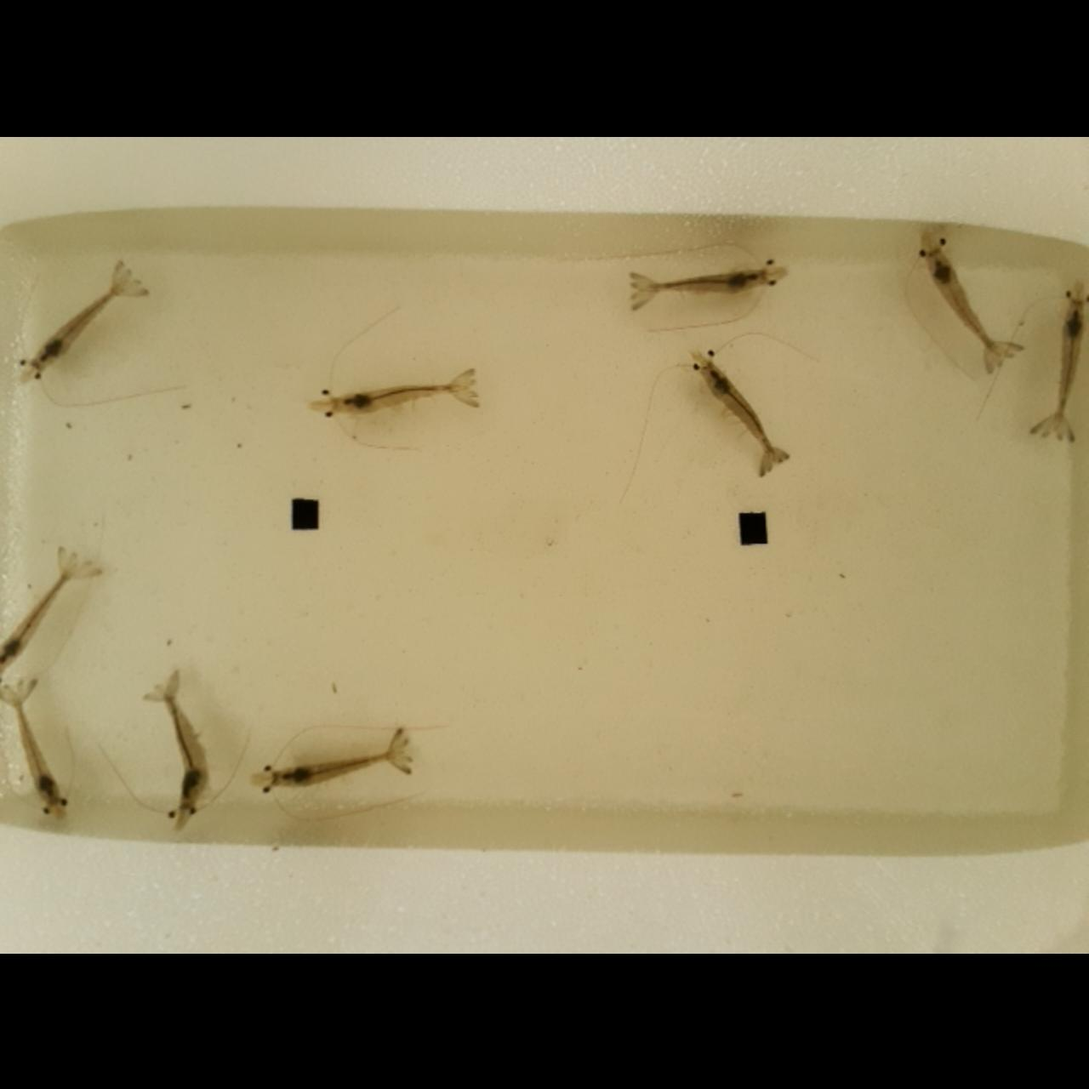box: (740, 512, 767, 543), (294, 499, 320, 529)
side_shrimp: (167, 677, 206, 803)
top_shrimp: (36, 279, 128, 366), (929, 250, 1001, 352), (2, 567, 75, 667), (704, 364, 776, 456), (274, 750, 400, 786), (15, 696, 58, 796), (342, 381, 461, 412), (1057, 306, 1084, 427), (640, 269, 762, 291)
